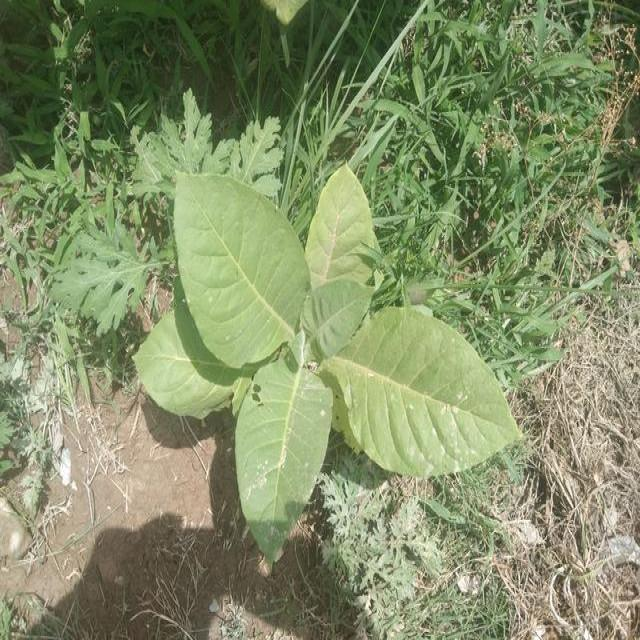crop: (159, 181, 521, 544)
